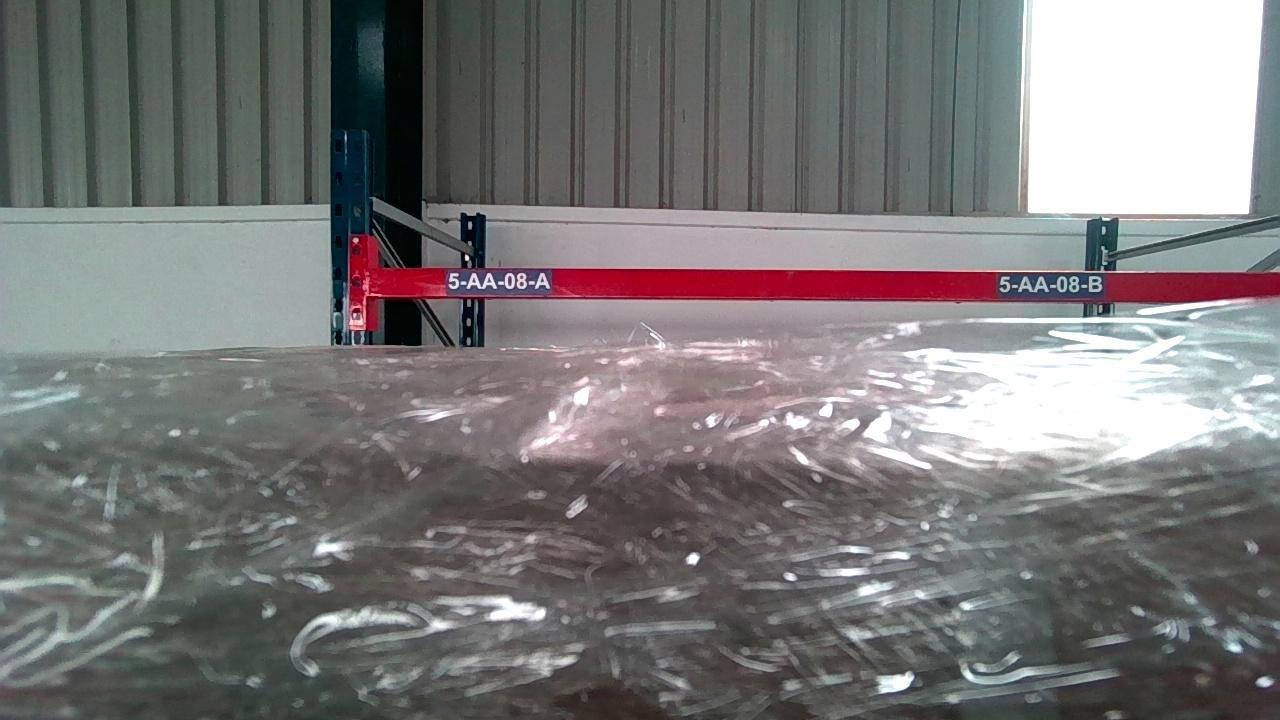h_rack: (368, 268, 1277, 299)
